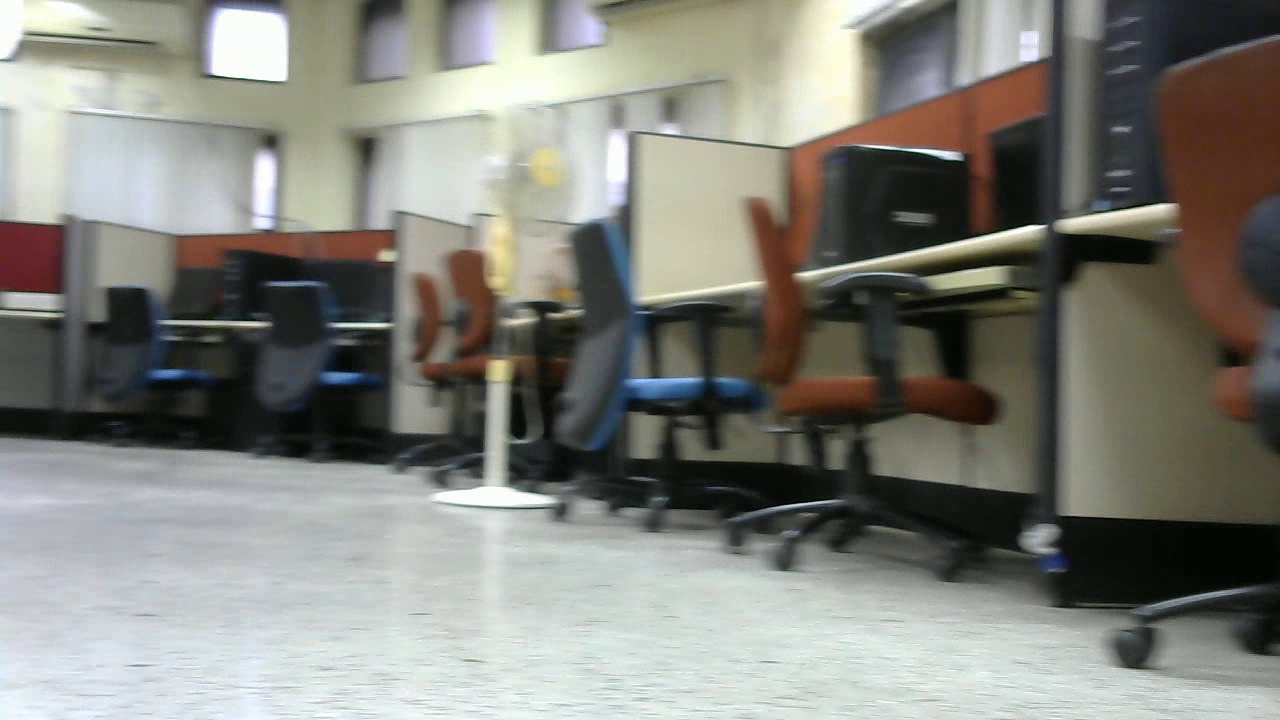chair: (723, 199, 997, 576), (535, 220, 765, 543), (404, 252, 553, 489), (259, 273, 379, 472), (90, 290, 221, 444)
